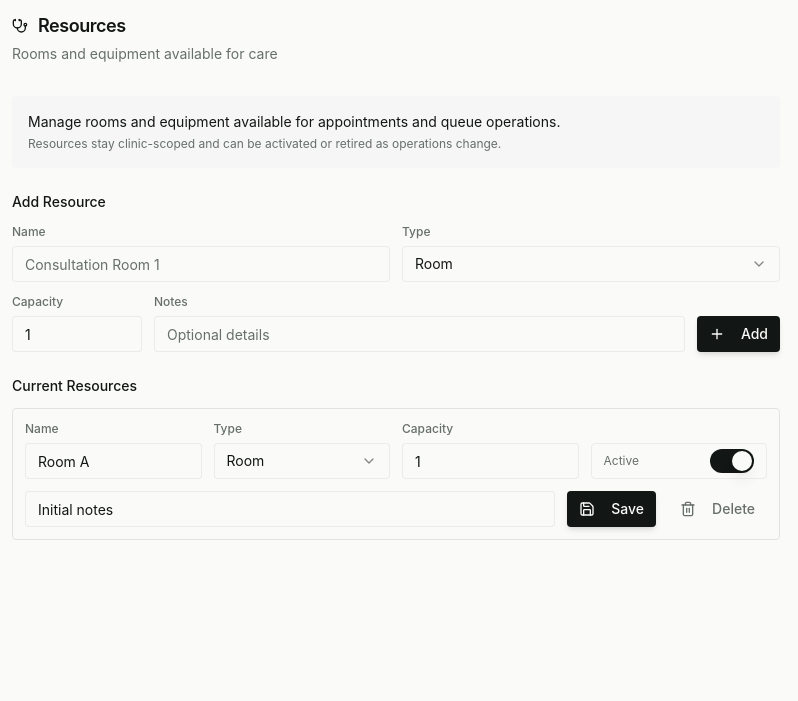
ClinicSettings resources › creates resources through create_clinic_resource RPC
Check: the field showing "Room A" in the row of "Active" is shown, box [25,443,202,479]
In the field with placeholder "Consultation Room 1": (201, 264) [12,246,390,282], type "Consultation Room B"
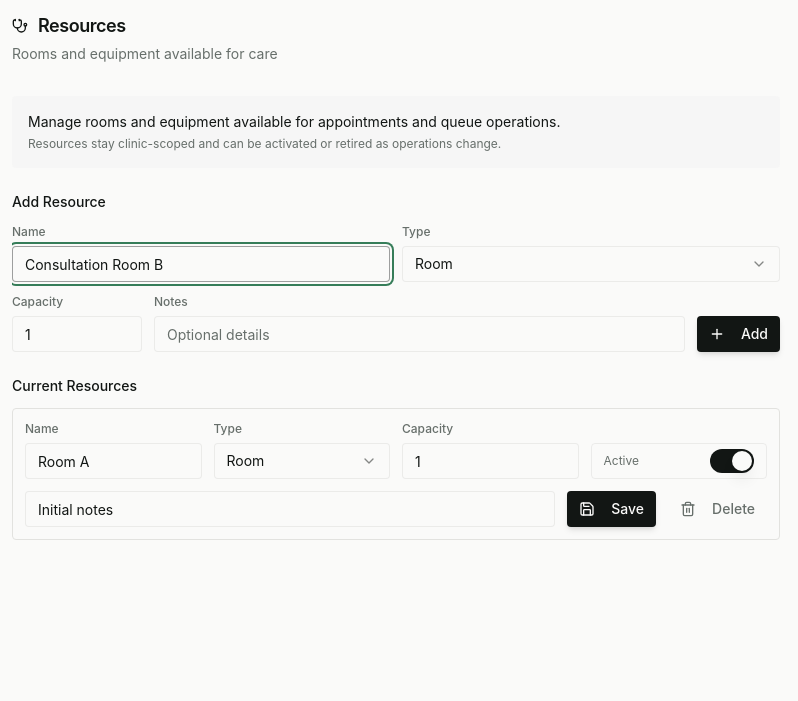
Click the button "Add": click(738, 334) [697,316,780,352]
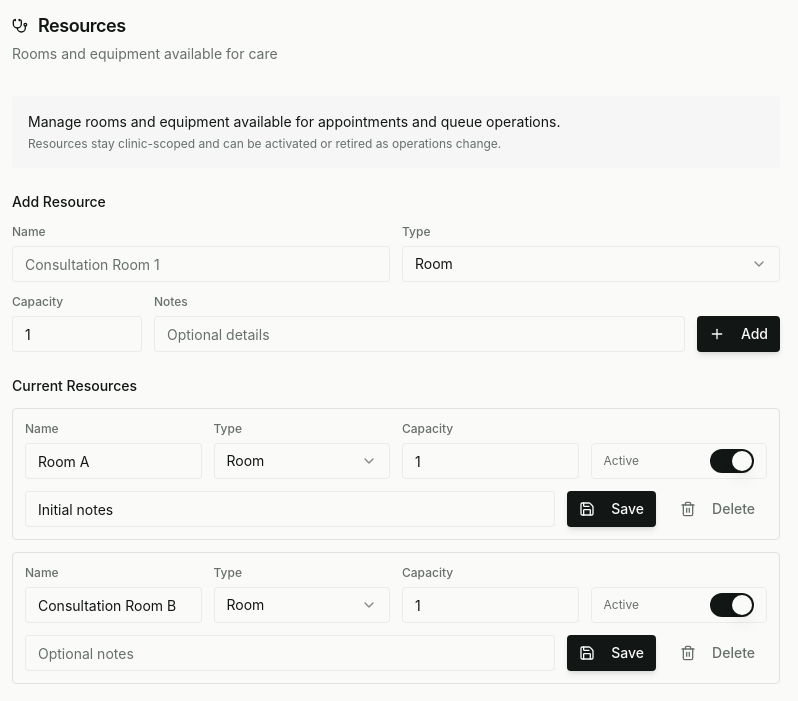
Check: the 3rd field showing "Consultation Room B" is shown, box [25,587,202,623]
